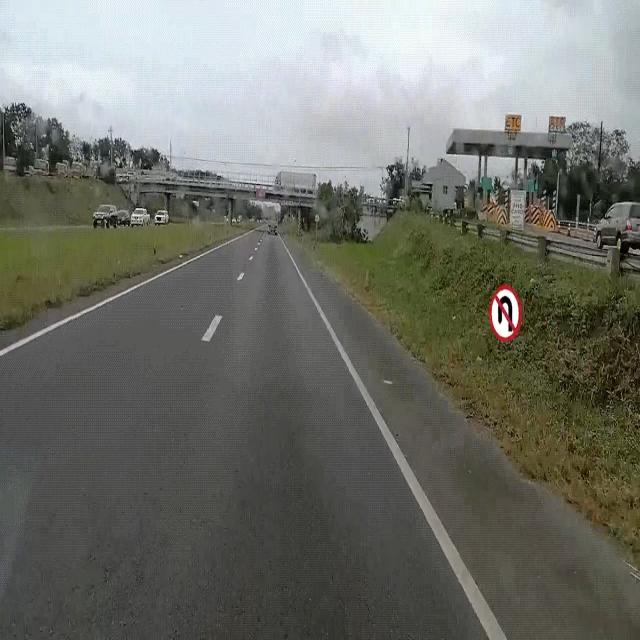Demi-Tour-Interdit: (487, 275, 523, 350)
